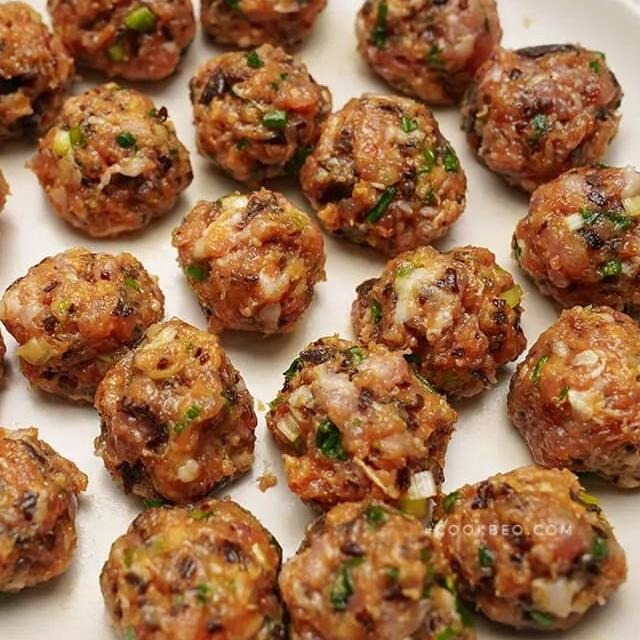vien moc: (266, 324, 465, 516), (430, 448, 629, 640), (87, 308, 262, 512), (286, 88, 488, 264), (337, 240, 537, 408), (89, 490, 297, 640), (266, 495, 480, 640), (0, 238, 176, 413), (454, 39, 640, 199), (499, 287, 640, 496), (28, 83, 198, 255), (176, 180, 335, 340), (182, 35, 334, 196), (501, 158, 640, 332), (338, 0, 510, 117), (0, 411, 98, 616), (35, 0, 202, 90), (0, 0, 76, 143), (189, 0, 341, 57)
